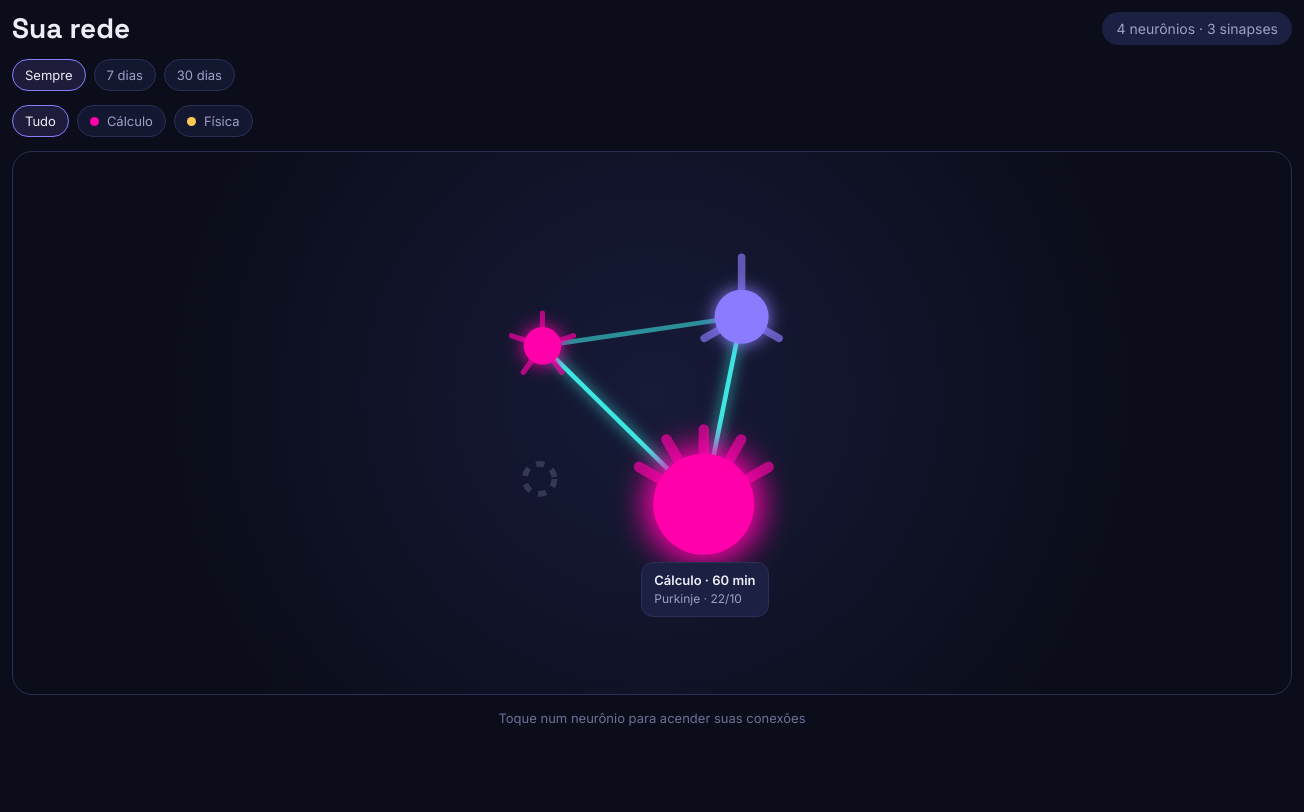
Test: tela da rede neural › filtro sem neurônios oferece voltar para a rede toda
Check: the text "4 neurônios · 3 sinapses" is shown, box [1102,12,1292,45]
Click the button "30 dias" at (199, 75), box [164,59,235,91]
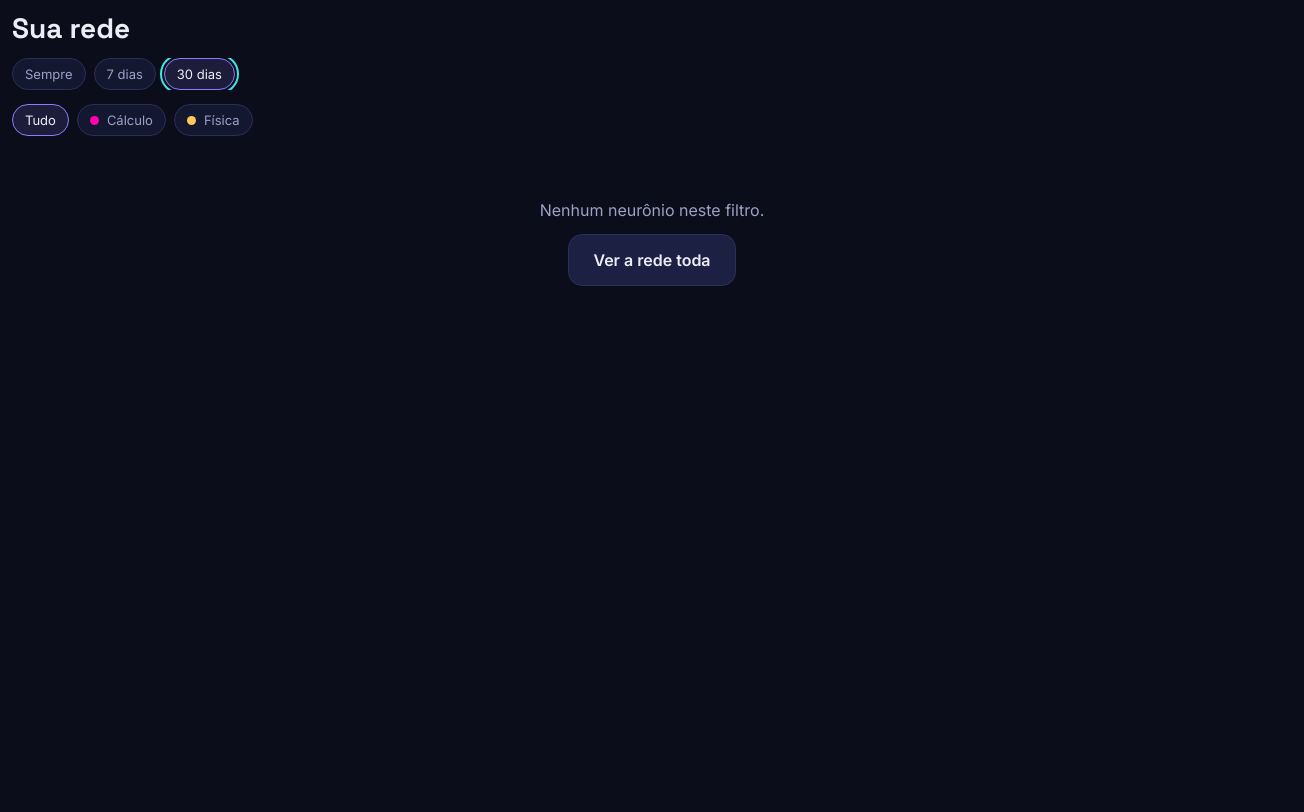
Check: the text "Nenhum neurônio neste filtro." is shown, box [540,198,764,222]
Click the button "Ver a rede toda" at (652, 260), box [568,234,736,286]
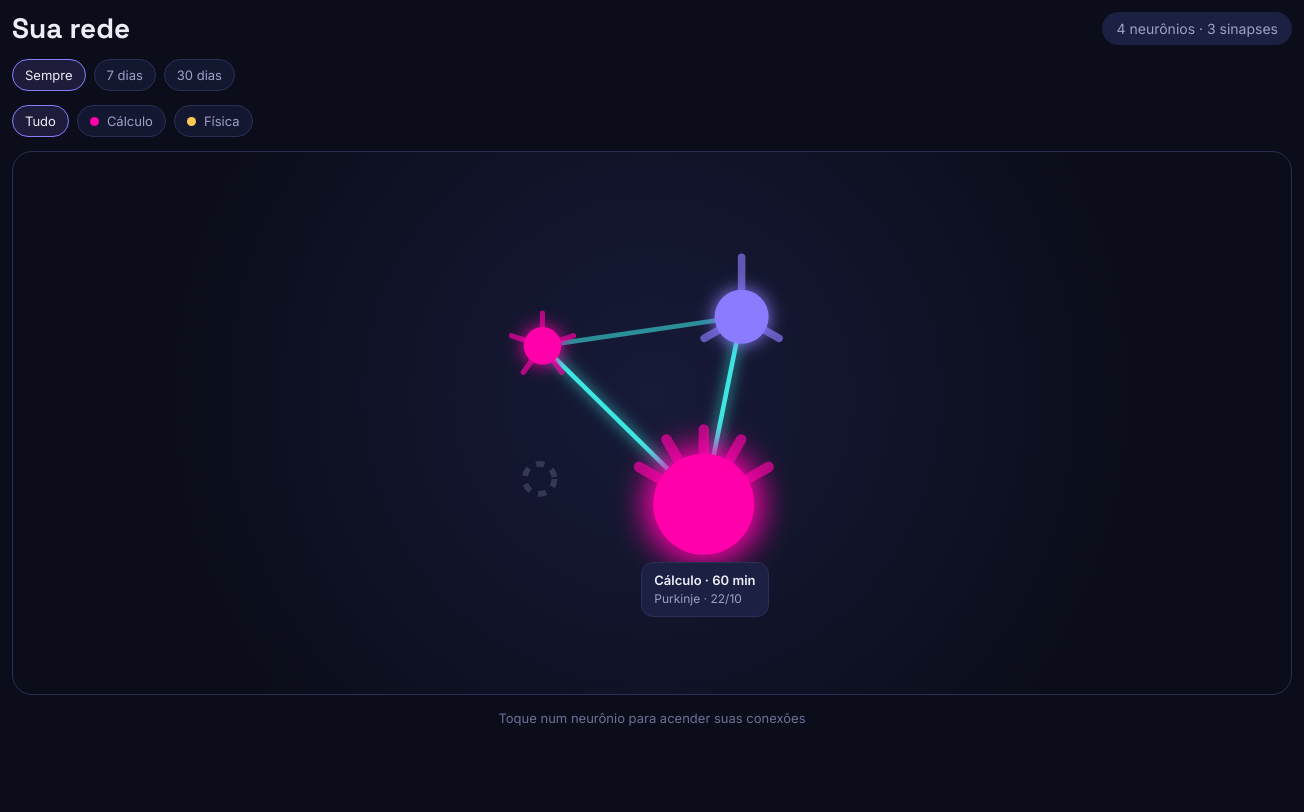
Check: the text "4 neurônios · 3 sinapses" is shown, box [1102,12,1292,45]
